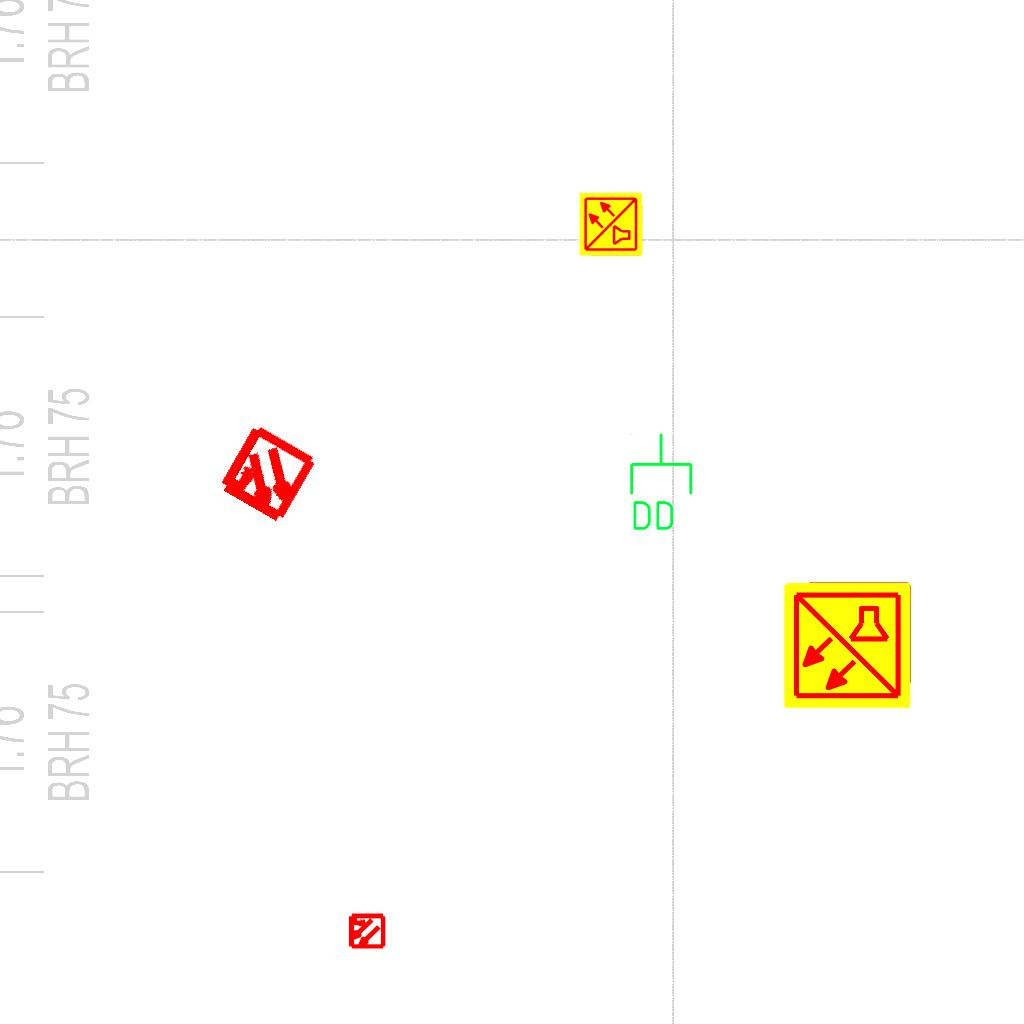Datenanschluss_zweifach: (626, 431, 695, 534)
OKW_Multisensormelder_(Kombination_optischer_Rauch-Kahlenmonoxid_Waerme-Melder): (781, 579, 913, 711), (578, 191, 644, 257)
OT_Multisensormelder_(Kombination_RMO_WMD): (189, 398, 344, 553), (338, 903, 394, 959)
